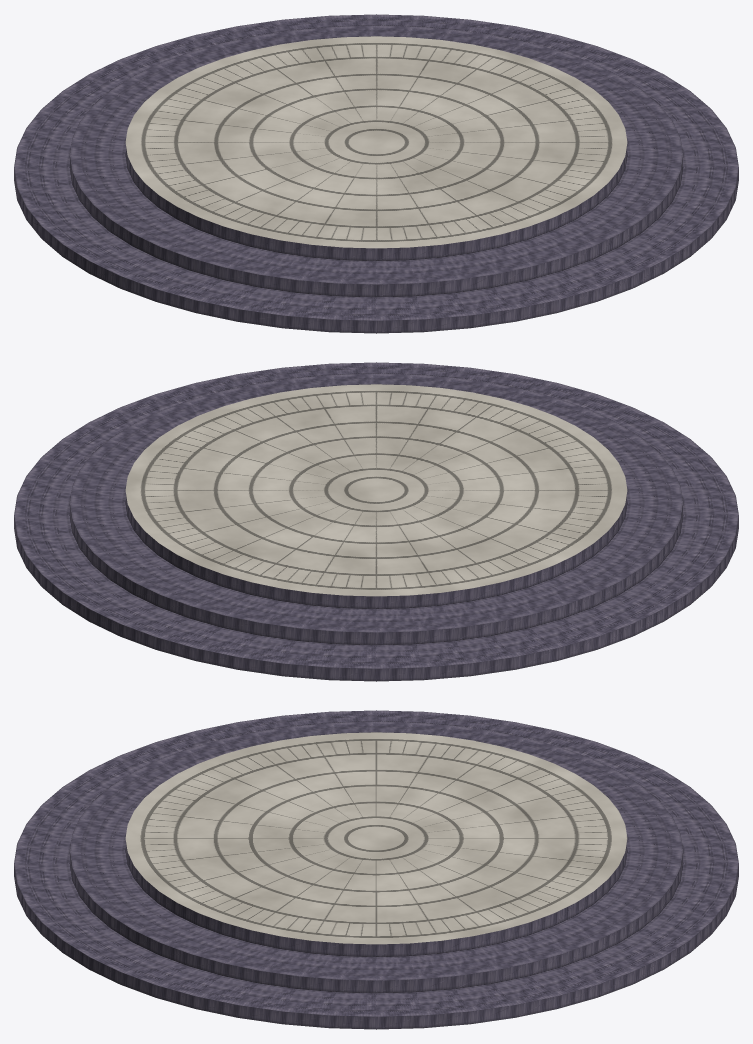
The model's file is Oracle_Hall_Dais.gltf.
3 renders of one model, top to bottom at view 1: azimuth 30°, elevation 25°; view 2: azimuth 150°, elevation 25°; view 3: azimuth 270°, elevation 25°, orthographic.
Visible parts, largest first — view 1: Oracle_Hall_Dais; view 2: Oracle_Hall_Dais; view 3: Oracle_Hall_Dais.
Part boxes in pixels (box(x1,y1,x2,y2)): Oracle_Hall_Dais: box(14, 14, 738, 333); Oracle_Hall_Dais: box(14, 362, 738, 681); Oracle_Hall_Dais: box(14, 710, 738, 1029).
Bounding box in the file's own units: 26 × 1.5 × 26.
2 materials, 2 textured.
